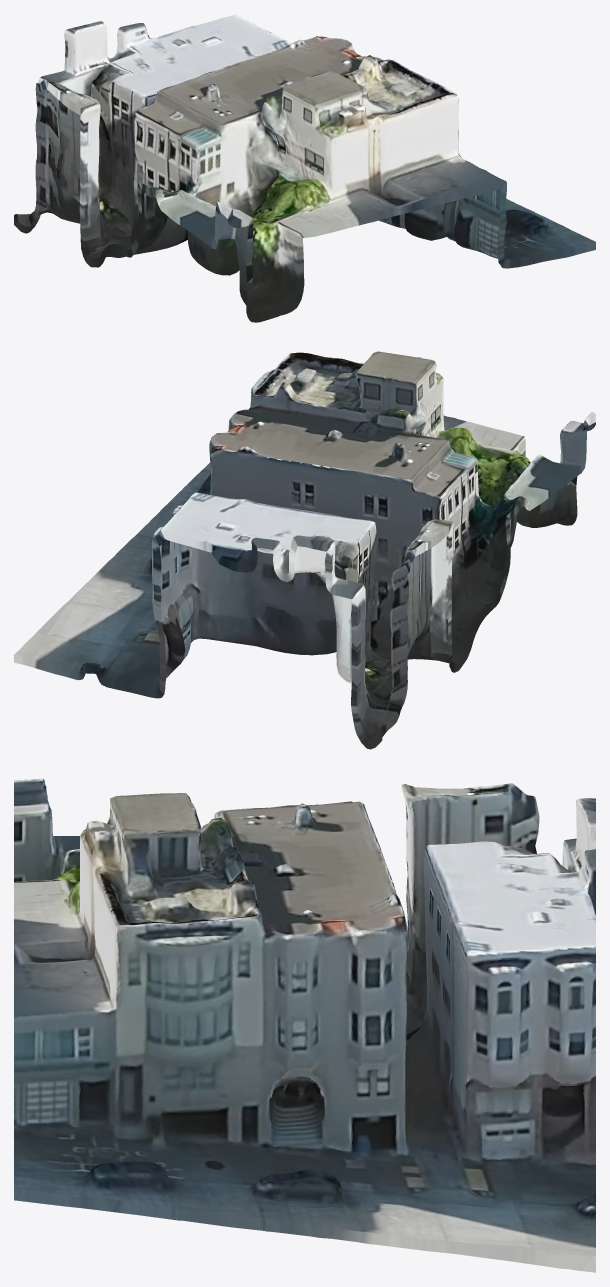
File: z20-167741-405196-h0-yup-uvflip-v3-world.glb
The picture shows the model from 3 angles, top to bottom: view 1: azimuth 30°, elevation 25°; view 2: azimuth 150°, elevation 25°; view 3: azimuth 270°, elevation 25°; orthographic projection. The views are drawn at different scales.
Size of the model in its own units: 30.16 by 18.32 by 30.32.
Materials: 1 (1 with a texture image).
